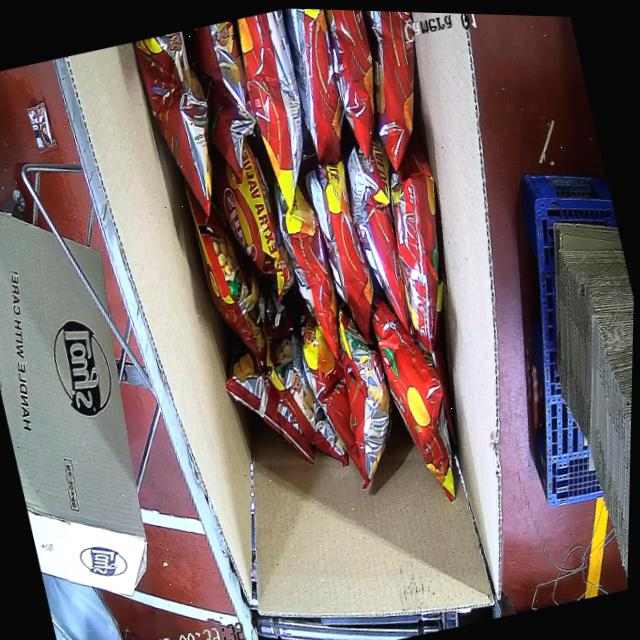MASALA: (120, 4, 526, 552)
